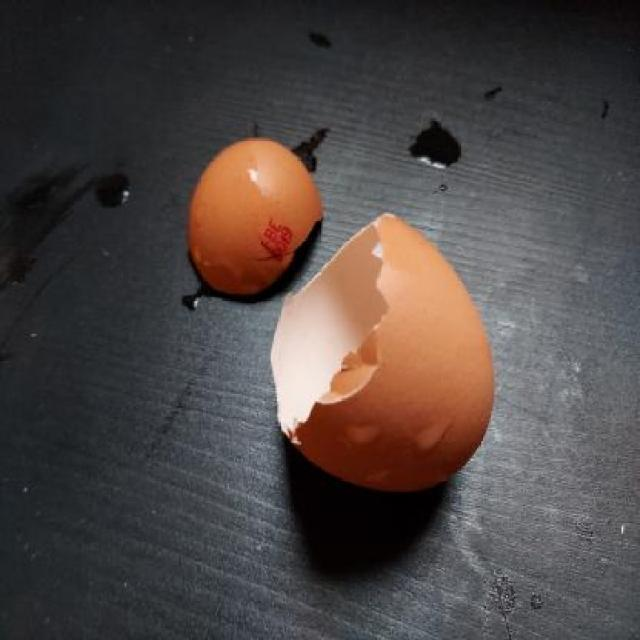biodegradable: (271, 210, 497, 499), (189, 137, 322, 306)
